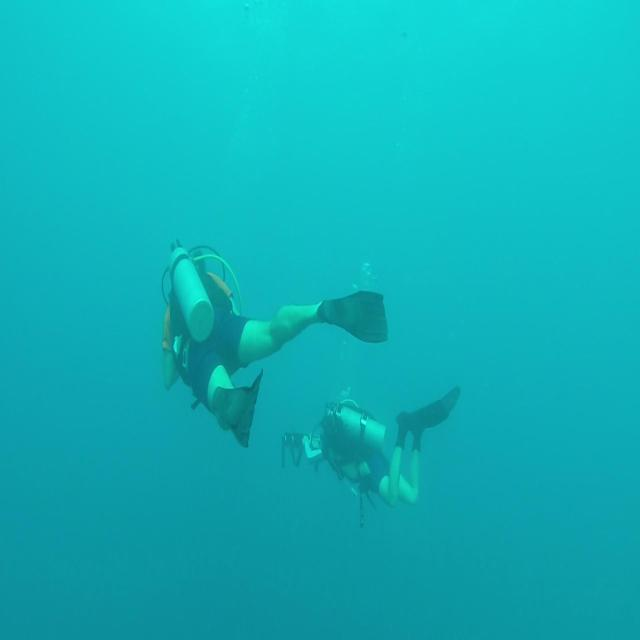human: (161, 238, 388, 448), (281, 383, 461, 527)
